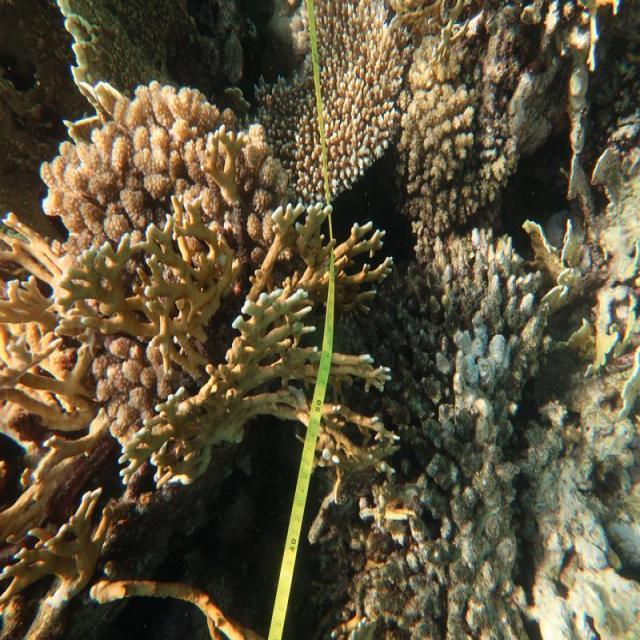Healthy Coral: (0, 1, 392, 640)
